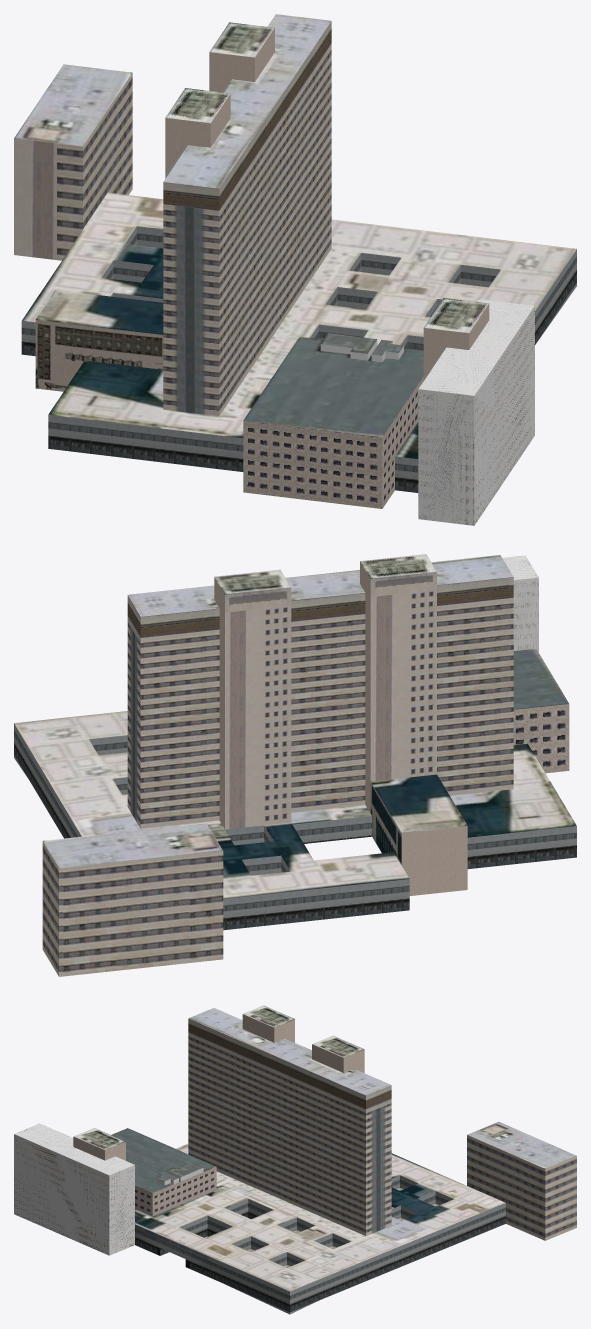
Rendered from LecuGomezUlla.gltf.
The picture shows the model from 3 angles, top to bottom: view 1: azimuth 30°, elevation 25°; view 2: azimuth 150°, elevation 25°; view 3: azimuth 270°, elevation 25°; orthographic projection. The views are drawn at different scales.
Parts seen in each view (by area): view 1: SketchUp.022, SketchUp.013, SketchUp.039, SketchUp.002, SketchUp.040, SketchUp.006, SketchUp.025, SketchUp.003, SketchUp.034, SketchUp.012, SketchUp.050, SketchUp.035 (+18 smaller); view 2: SketchUp.022, SketchUp.034, SketchUp.015, SketchUp.026, SketchUp.019, SketchUp.017, SketchUp.036, SketchUp, SketchUp.006, SketchUp.035, SketchUp.038, SketchUp.001 (+20 smaller); view 3: SketchUp.013, SketchUp.022, SketchUp.025, SketchUp.034, SketchUp.033, SketchUp.006, SketchUp.014, SketchUp.001, SketchUp.040, SketchUp.035, SketchUp.020, SketchUp.039 (+10 smaller).
Part boxes in pixels (x1=…): SketchUp.022: x1=22, y1=192, x2=576, y2=458; SketchUp.013: x1=219, y1=44, x2=331, y2=415; SketchUp.039: x1=243, y1=376, x2=423, y2=508; SketchUp.002: x1=163, y1=204, x2=219, y2=416; SketchUp.040: x1=243, y1=336, x2=423, y2=437; SketchUp.006: x1=163, y1=14, x2=331, y2=188; SketchUp.025: x1=474, y1=306, x2=534, y2=525; SketchUp.003: x1=418, y1=389, x2=474, y2=525; SketchUp.034: x1=57, y1=73, x2=132, y2=260; SketchUp.012: x1=48, y1=415, x2=243, y2=471; SketchUp.050: x1=35, y1=320, x2=163, y2=391; SketchUp.035: x1=14, y1=64, x2=131, y2=146; SketchUp.022: x1=14, y1=711, x2=576, y2=898; SketchUp.034: x1=42, y1=841, x2=223, y2=976; SketchUp.015: x1=140, y1=629, x2=219, y2=828; SketchUp.026: x1=437, y1=597, x2=513, y2=795; SketchUp.019: x1=225, y1=605, x2=291, y2=829; SketchUp.017: x1=291, y1=614, x2=365, y2=812; SketchUp.036: x1=370, y1=590, x2=436, y2=781; SketchUp: x1=223, y1=879, x2=409, y2=930; SketchUp.006: x1=128, y1=555, x2=513, y2=616; SketchUp.035: x1=43, y1=823, x2=222, y2=868; SketchUp.038: x1=401, y1=826, x2=467, y2=895; SketchUp.001: x1=127, y1=577, x2=513, y2=642; SketchUp.013: x1=188, y1=1032, x2=365, y2=1235; SketchUp.022: x1=135, y1=1143, x2=505, y2=1291; SketchUp.025: x1=14, y1=1134, x2=109, y2=1255; SketchUp.034: x1=467, y1=1135, x2=576, y2=1240; SketchUp.033: x1=211, y1=1203, x2=505, y2=1314; SketchUp.006: x1=189, y1=1008, x2=391, y2=1095; SketchUp.014: x1=366, y1=1103, x2=391, y2=1235; SketchUp.001: x1=188, y1=1018, x2=391, y2=1113; SketchUp.040: x1=111, y1=1128, x2=215, y2=1192; SketchUp.035: x1=467, y1=1122, x2=576, y2=1168; SketchUp.020: x1=109, y1=1165, x2=134, y2=1255; SketchUp.039: x1=135, y1=1167, x2=216, y2=1216.
Size of the model in its own units: 184 by 90.06 by 257.
21 materials, 19 textured.
